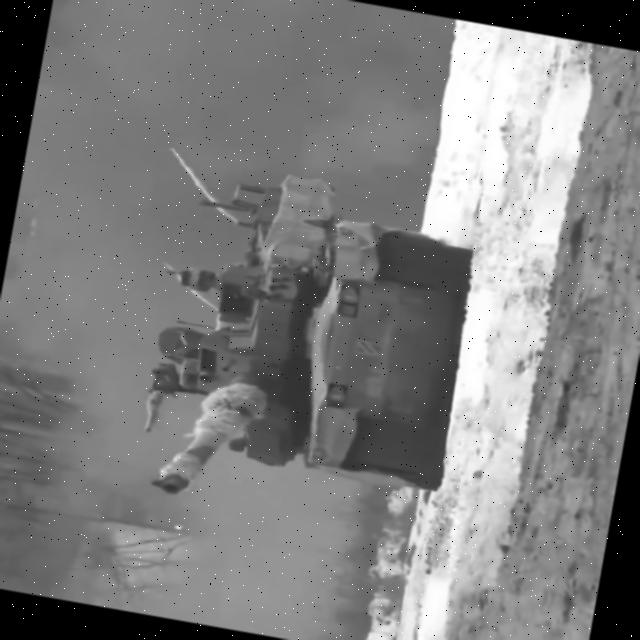korea tank: (125, 152, 490, 540)
